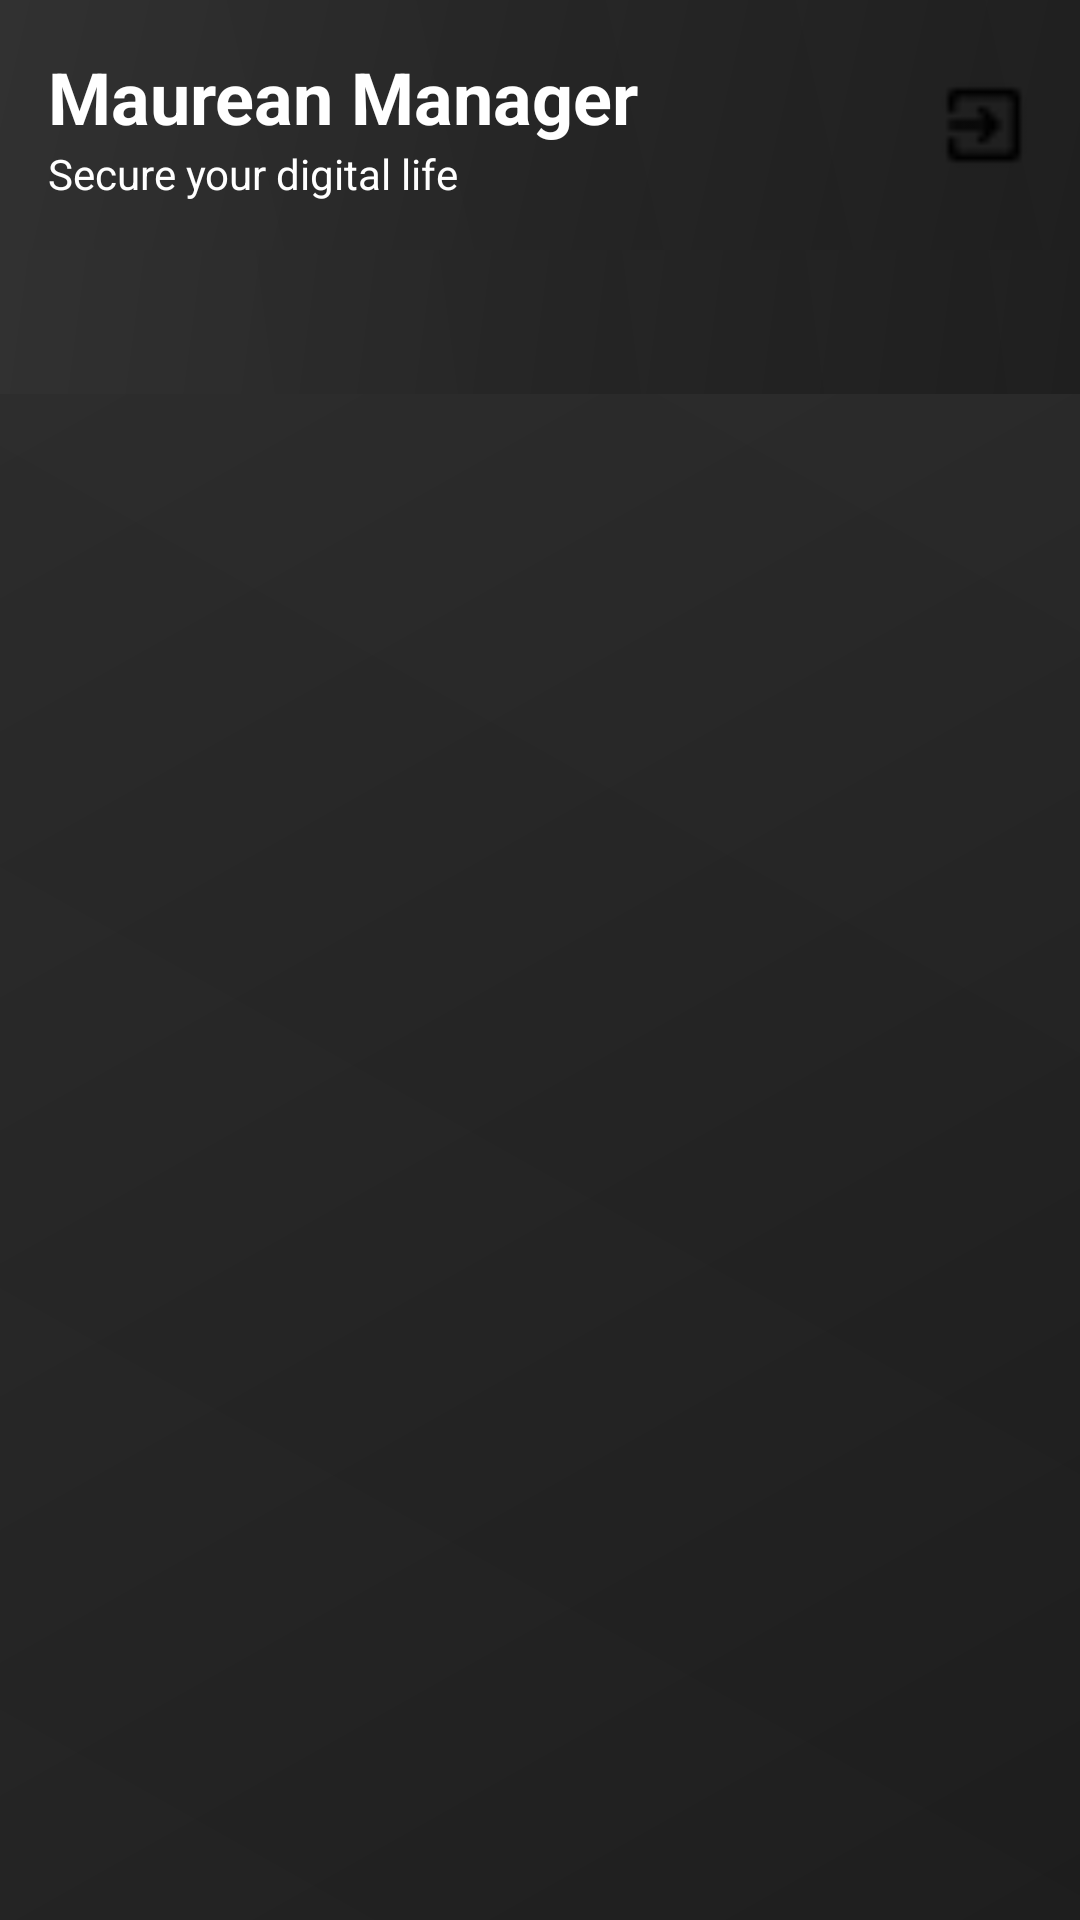

Screen size 1080px×1920px. Icon name, then its center in pixels as (x,y):
exit: (984,125)
